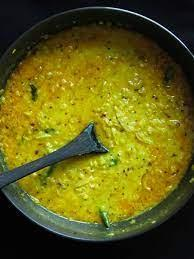Dhal Curry: (2, 6, 183, 250)
